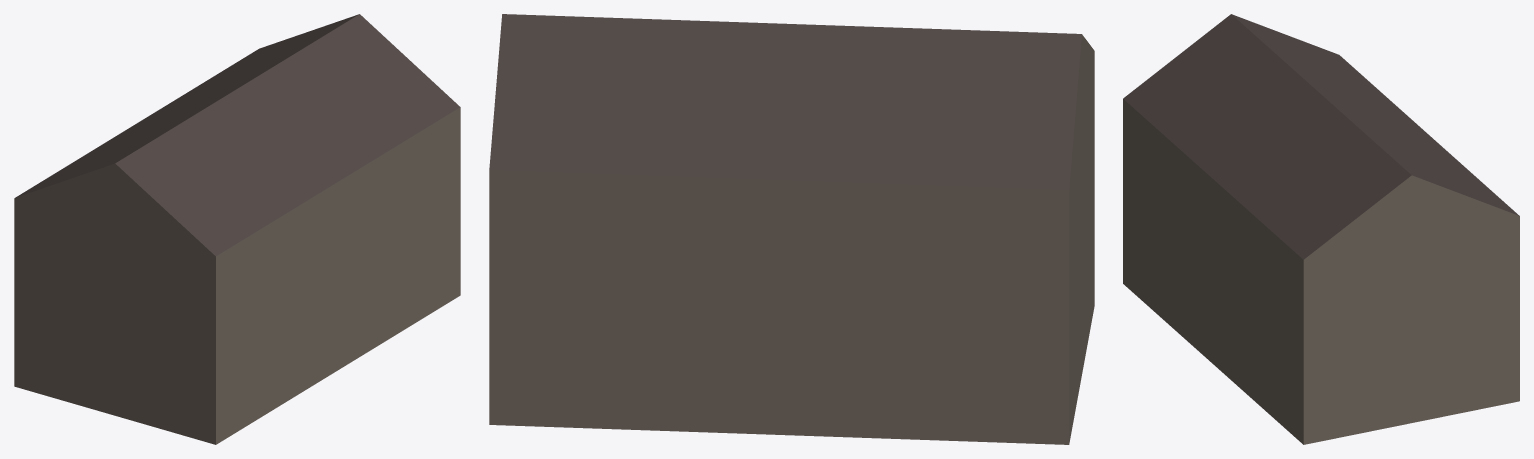
3 renders of one model, left to right at view 1: azimuth 30°, elevation 25°; view 2: azimuth 150°, elevation 25°; view 3: azimuth 270°, elevation 25°, orthographic. The views are drawn at different scales.
Visible parts, largest first — view 1: HP-w1203858311; view 2: HP-w1203858311; view 3: HP-w1203858311.
Boxes of the visible parts, <box> form: HP-w1203858311: <box>14,14,460,444</box>; HP-w1203858311: <box>489,14,1094,444</box>; HP-w1203858311: <box>1123,14,1519,444</box>.
Bounding box in the file's own units: 21.38 × 12.05 × 17.5.
